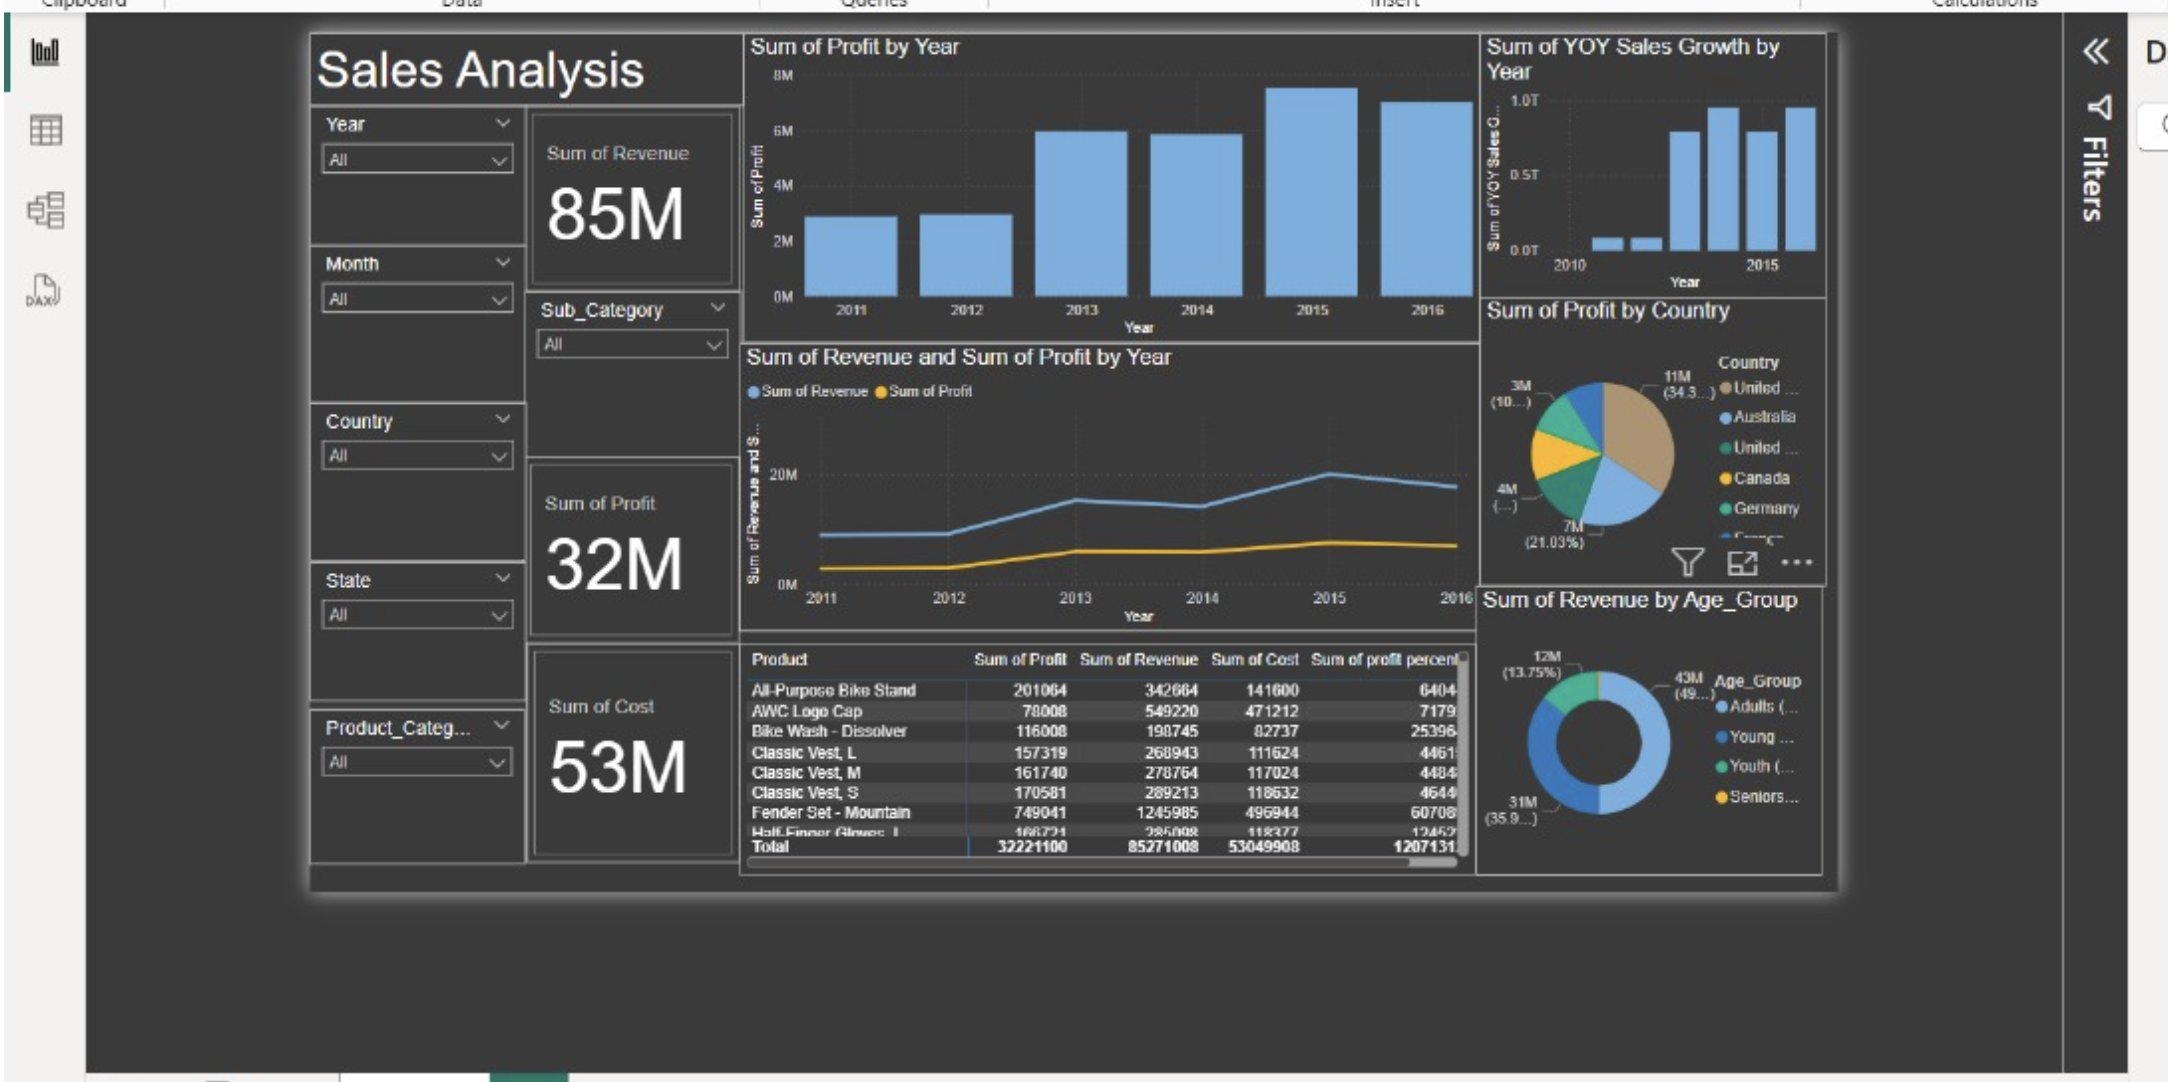

Layout of this report page (visuals, bound fields, positions):
{"tool":"powerbi","page":{"name":"Page 1","canvas":[1280,720],"ordinal":0},"visuals":[{"type":"textbox","box":[0,0,363.1,61.5],"z":0},{"type":"cardVisual","fields":{"Data":["Sum(Sales.Revenue)"]},"box":[185,248.3,180,155],"z":1},{"type":"cardVisual","fields":{"Data":["Sum(Sales.Profit)"]},"box":[183.3,403.3,181.7,156.7],"z":2},{"type":"cardVisual","fields":{"Data":["Sum(Sales.Cost)"]},"box":[181.7,61.7,178.3,183.3],"z":3},{"type":"slicer","fields":{"Values":["Sales.Month"]},"box":[0,178.5,181.5,132.3],"z":5},{"type":"slicer","fields":{"Values":["Sales.Sub_Category"]},"box":[181.7,560,181.7,145],"z":6},{"type":"slicer","fields":{"Values":["Sales.State"]},"box":[0,443.1,181.5,116.9],"z":7},{"type":"columnChart","fields":{"Y":["Sum(Sales.Profit)"],"Category":["Sales.Year"]},"box":[363.1,0,616.9,260],"z":10},{"type":"lineChart","fields":{"Category":["Sales.Year"],"Y":["Sum(Sales.Revenue)","Sum(Sales.Profit)"]},"box":[360,260,620,241.5],"z":11},{"type":"slicer","fields":{"Values":["Sales.Country"]},"box":[0,310.8,181.5,132.3],"z":12},{"type":"slicer","fields":{"Values":["Sales.Year"]},"box":[0,61.5,181.5,116.9],"z":13},{"type":"pivotTable","fields":{"Rows":["Sales.Product"],"Values":["Sum(Sales.Profit)","Sum(Sales.Revenue)","Sum(Sales.Cost)","Sum(Sales.profit percentage)"]},"box":[360,512.3,616.9,193.8],"z":16},{"type":"pieChart","fields":{"Category":["Sales.Country"],"Y":["Sum(Sales.Profit)"]},"box":[980,222,290,242],"z":18},{"type":"slicer","fields":{"Values":["Sales.Product_Category"]},"box":[0,560,180,145],"z":19},{"type":"donutChart","fields":{"Category":["Sales.Age_Group"],"Y":["Sum(Sales.Revenue)"]},"box":[976,464,290,242],"z":20},{"type":"qnaVisual","box":[980,0,290,222],"z":21}]}

Visuals, with their boxes on the page's 1280x720 design canvas (x1, y1, x2, y2). These are canvas units, not pixel positions in the 2168x1082 screenshot, which may show the page scaled, cropped or inside an application window:
textbox: 0/0/363/62
cardVisual - Sum(Sales.Revenue): 185/248/365/403
cardVisual - Sum(Sales.Profit): 183/403/365/560
cardVisual - Sum(Sales.Cost): 182/62/360/245
slicer - Sales.Month: 0/178/182/311
slicer - Sales.Sub_Category: 182/560/363/705
slicer - Sales.State: 0/443/182/560
columnChart - Sum(Sales.Profit) x Sales.Year: 363/0/980/260
lineChart - Sales.Year x Sum(Sales.Revenue): 360/260/980/502
slicer - Sales.Country: 0/311/182/443
slicer - Sales.Year: 0/62/182/178
pivotTable - Sales.Product x Sum(Sales.Profit): 360/512/977/706
pieChart - Sales.Country x Sum(Sales.Profit): 980/222/1270/464
slicer - Sales.Product_Category: 0/560/180/705
donutChart - Sales.Age_Group x Sum(Sales.Revenue): 976/464/1266/706
qnaVisual: 980/0/1270/222
